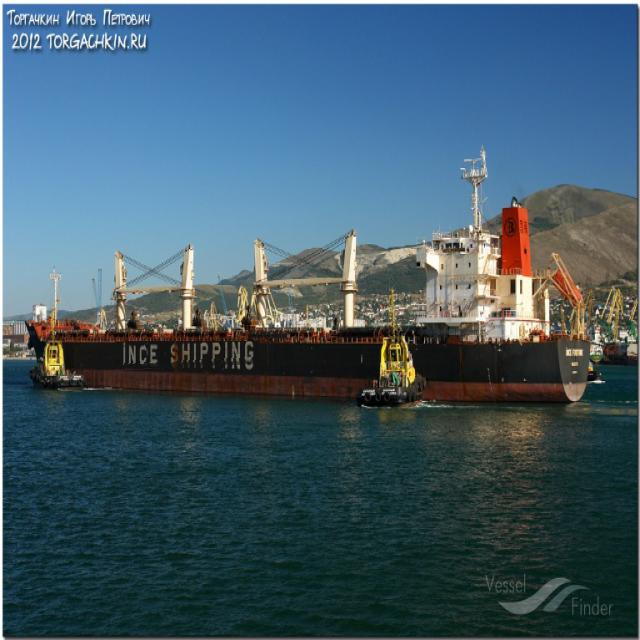OCR: (115, 342, 259, 372)
